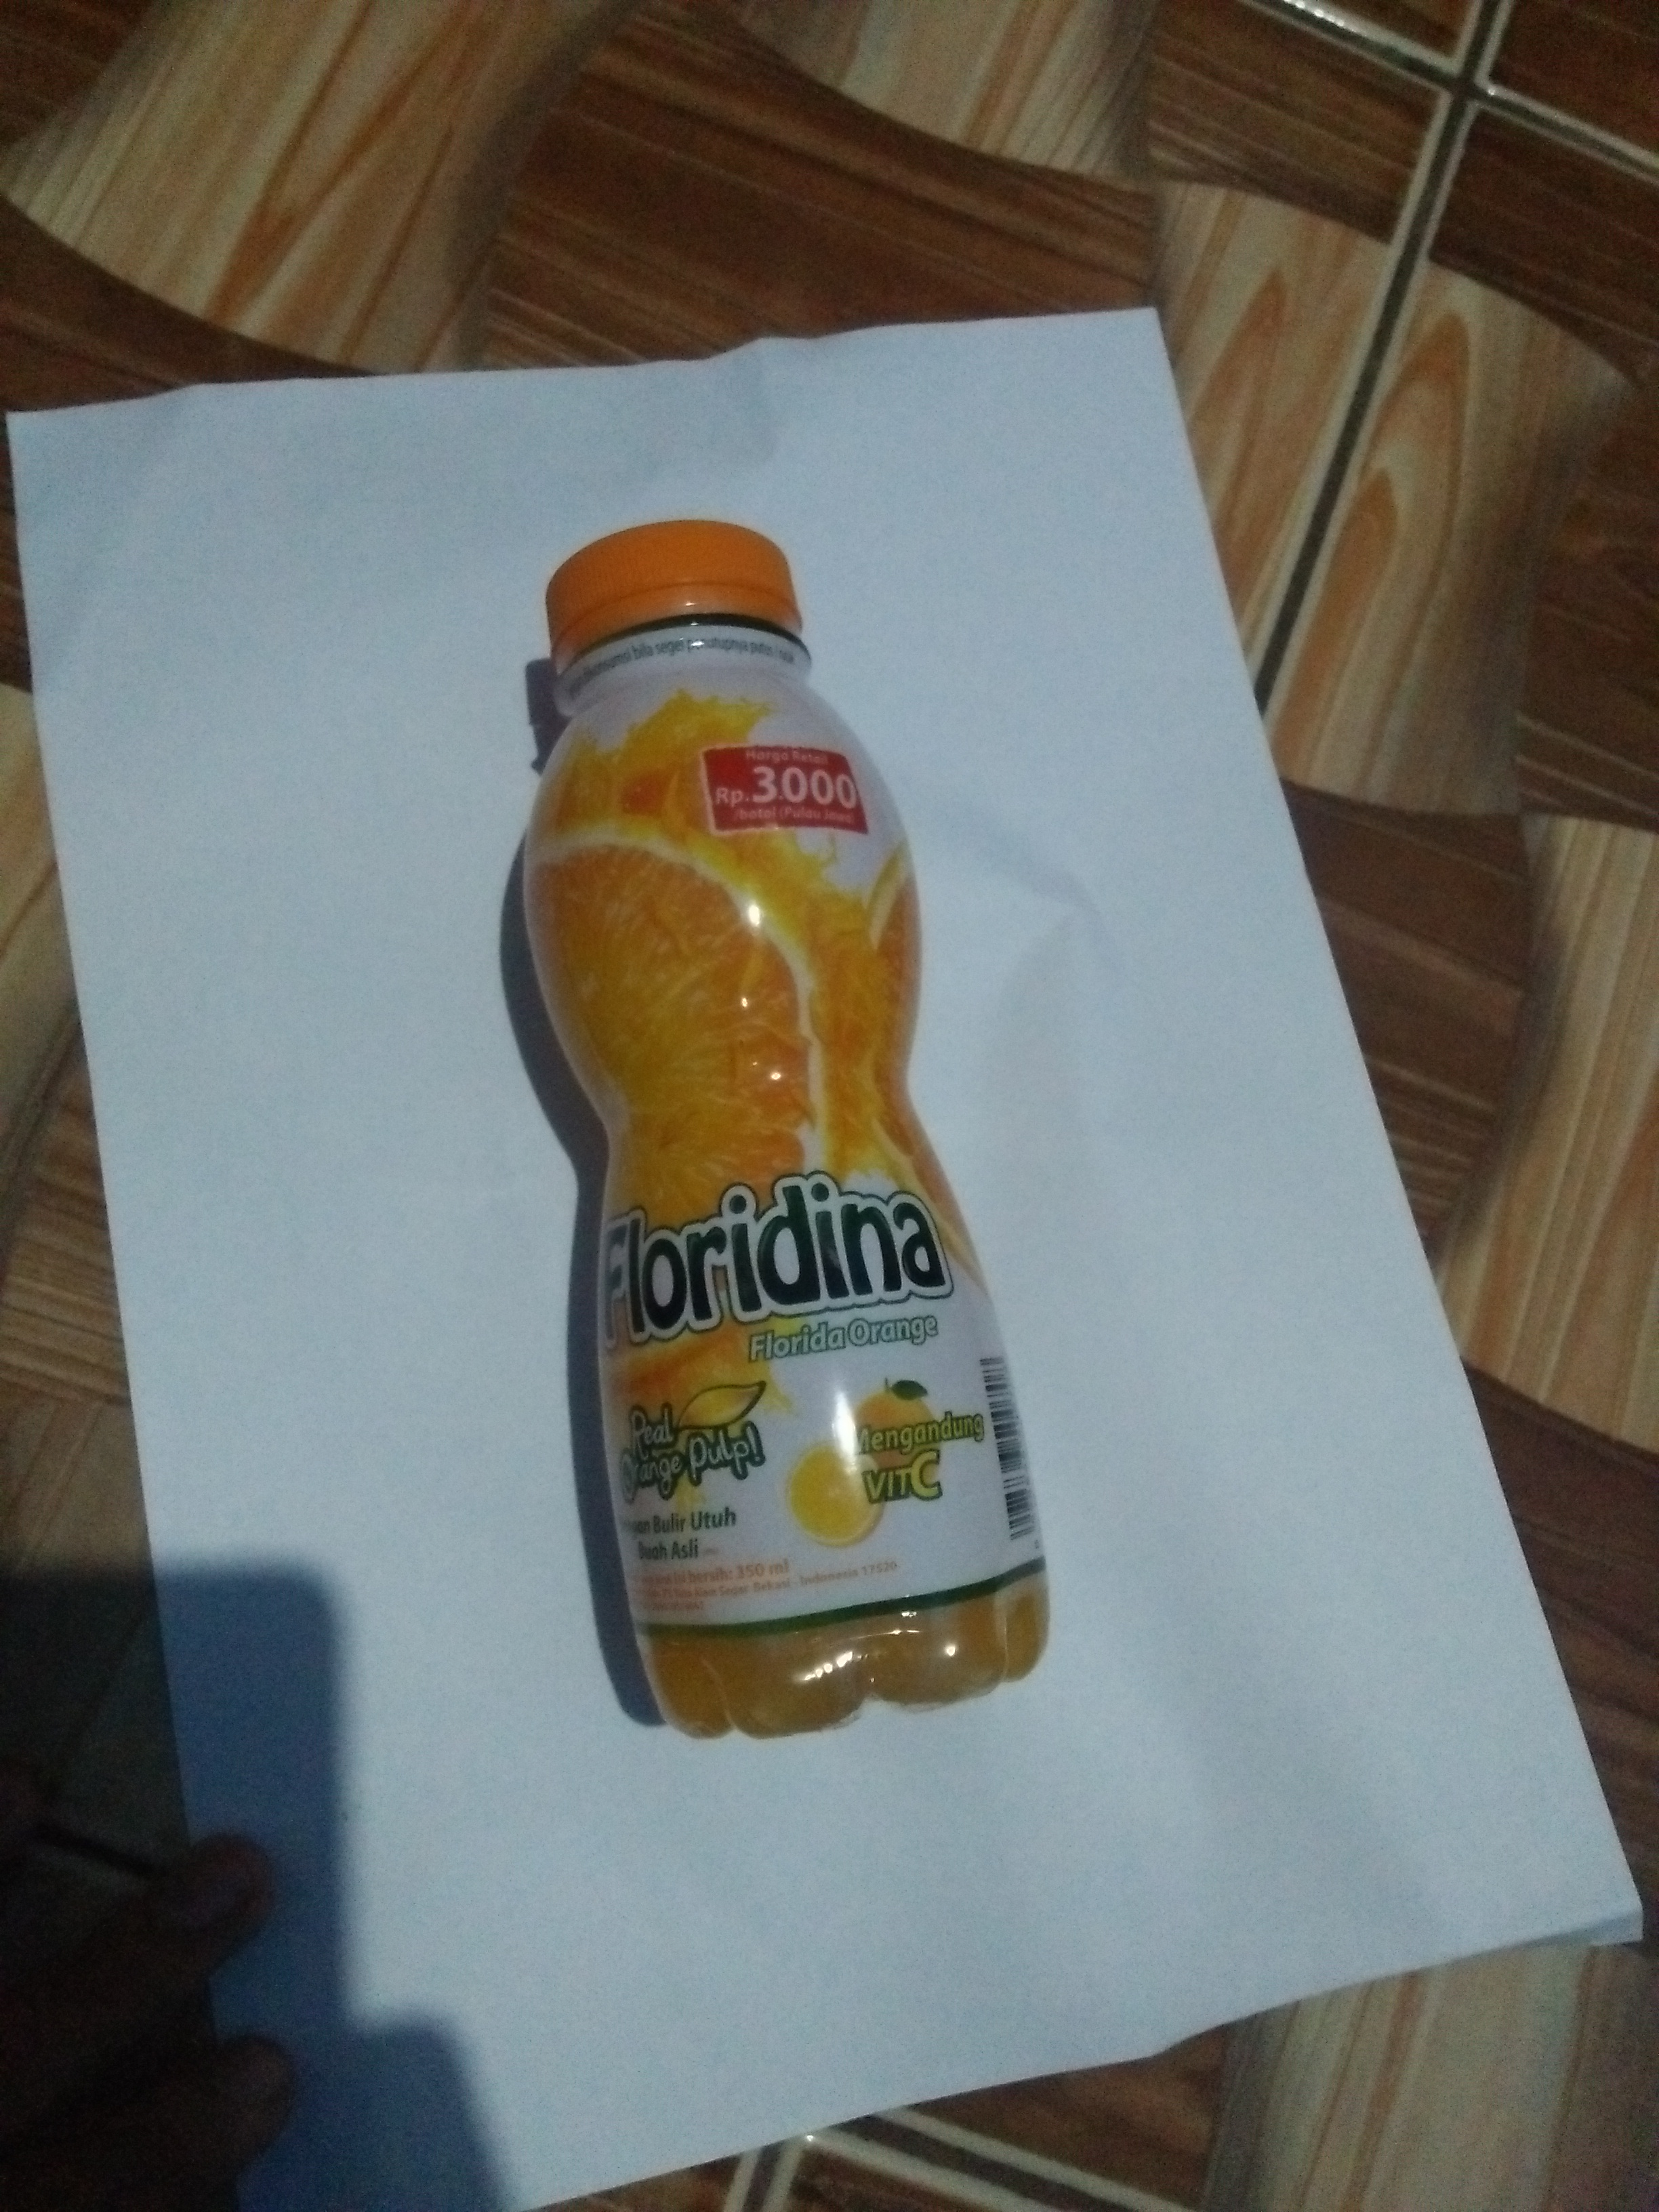Floridina: (521, 505, 1063, 1735)
